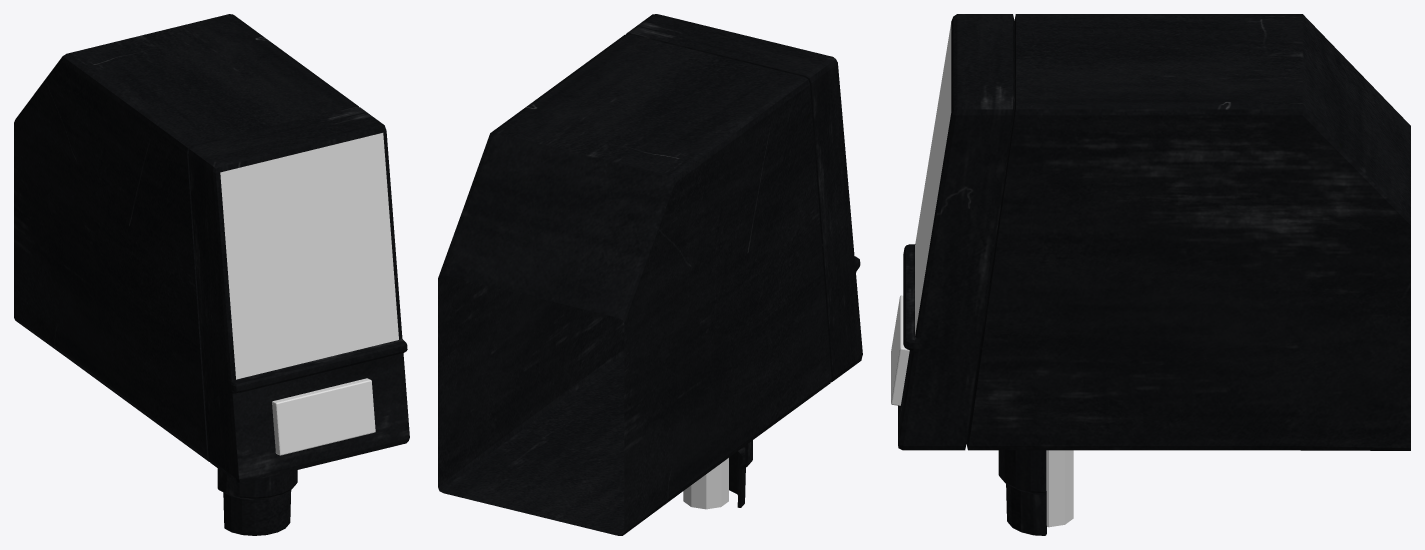
File: SodaDispenserUnit.fbx
The picture shows the model from 3 angles, left to right: view 1: azimuth 30°, elevation 25°; view 2: azimuth 150°, elevation 25°; view 3: azimuth 270°, elevation 25°; orthographic projection. The views are drawn at different scales.
Parts seen in each view (by area): view 1: SodaDispenser_Unit, SodaDispenser_Label, SodaDispenser_Button; view 2: SodaDispenser_Unit; view 3: SodaDispenser_Unit, SodaDispenser_Label, SodaDispenser_Button.
Boxes of the visible parts, x1=… form: SodaDispenser_Unit: x1=14, y1=14, x2=409, y2=535; SodaDispenser_Label: x1=220, y1=133, x2=398, y2=379; SodaDispenser_Button: x1=272, y1=378, x2=375, y2=455; SodaDispenser_Unit: x1=438, y1=14, x2=862, y2=535; SodaDispenser_Unit: x1=898, y1=14, x2=1410, y2=535; SodaDispenser_Label: x1=915, y1=22, x2=951, y2=335; SodaDispenser_Button: x1=891, y1=295, x2=909, y2=405.
Size of the model in its own units: 5.73 by 12.75 by 13.
Materials: 2 (1 with a texture image).
